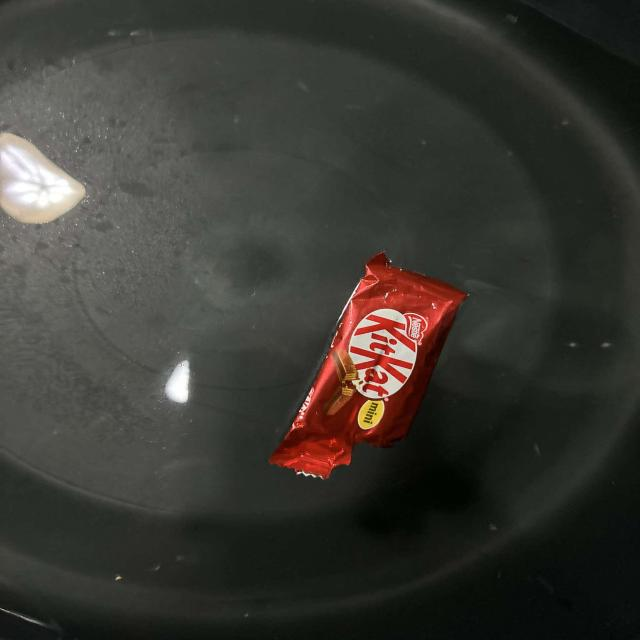Plastic Wrapper: (246, 238, 465, 484)
